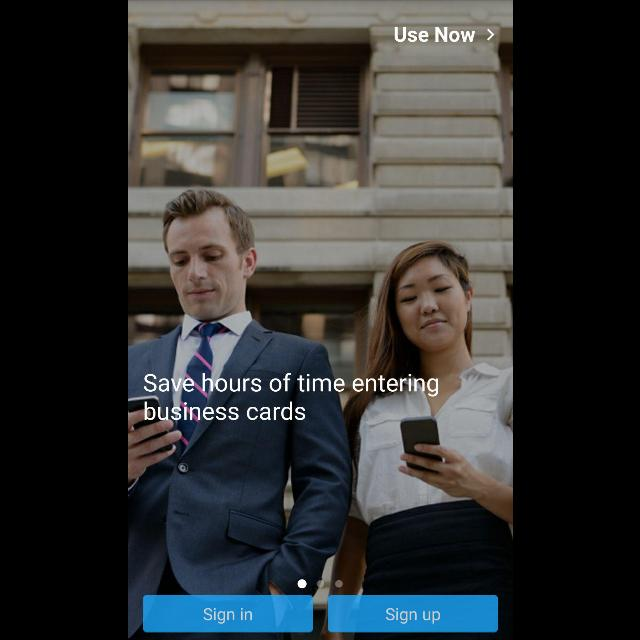backgroundimage: (128, 1, 512, 640)
icon: (486, 29, 494, 41)
pageindicator: (296, 579, 342, 589)
text: (142, 372, 438, 422), (394, 27, 474, 43)
textbutton: (142, 595, 312, 633), (327, 596, 497, 632)
